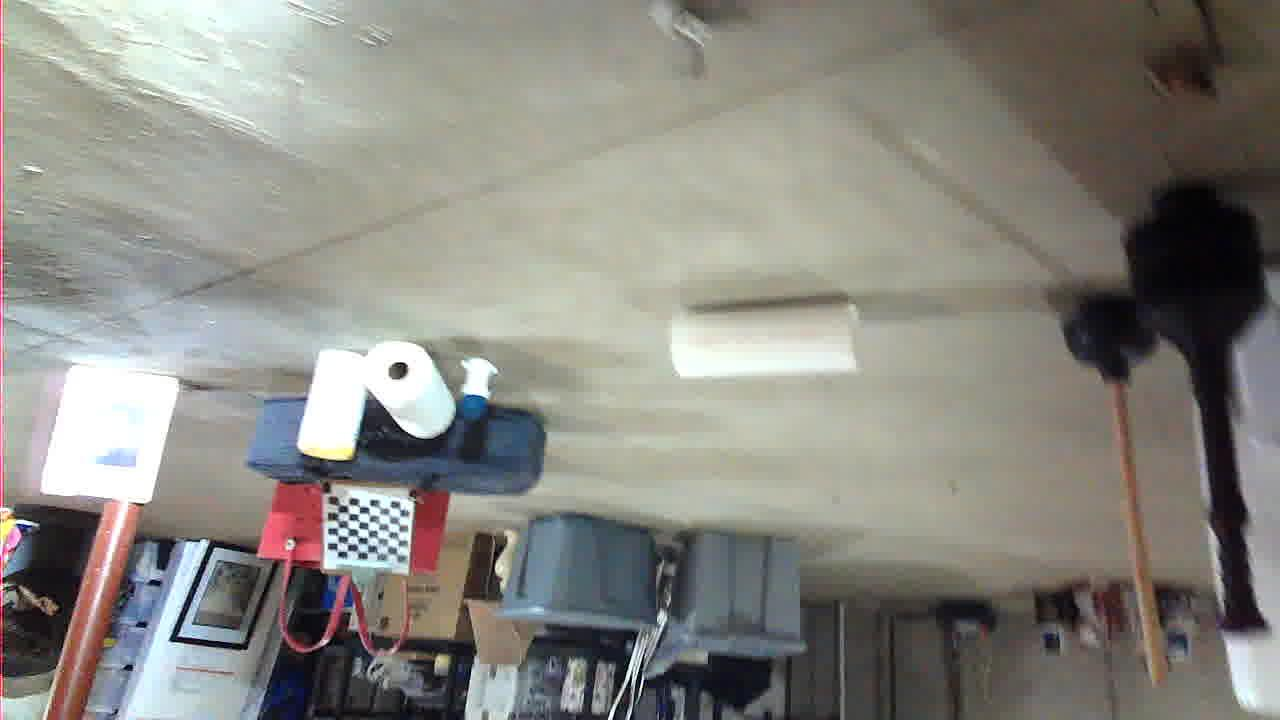coral: (425, 345, 610, 416)
